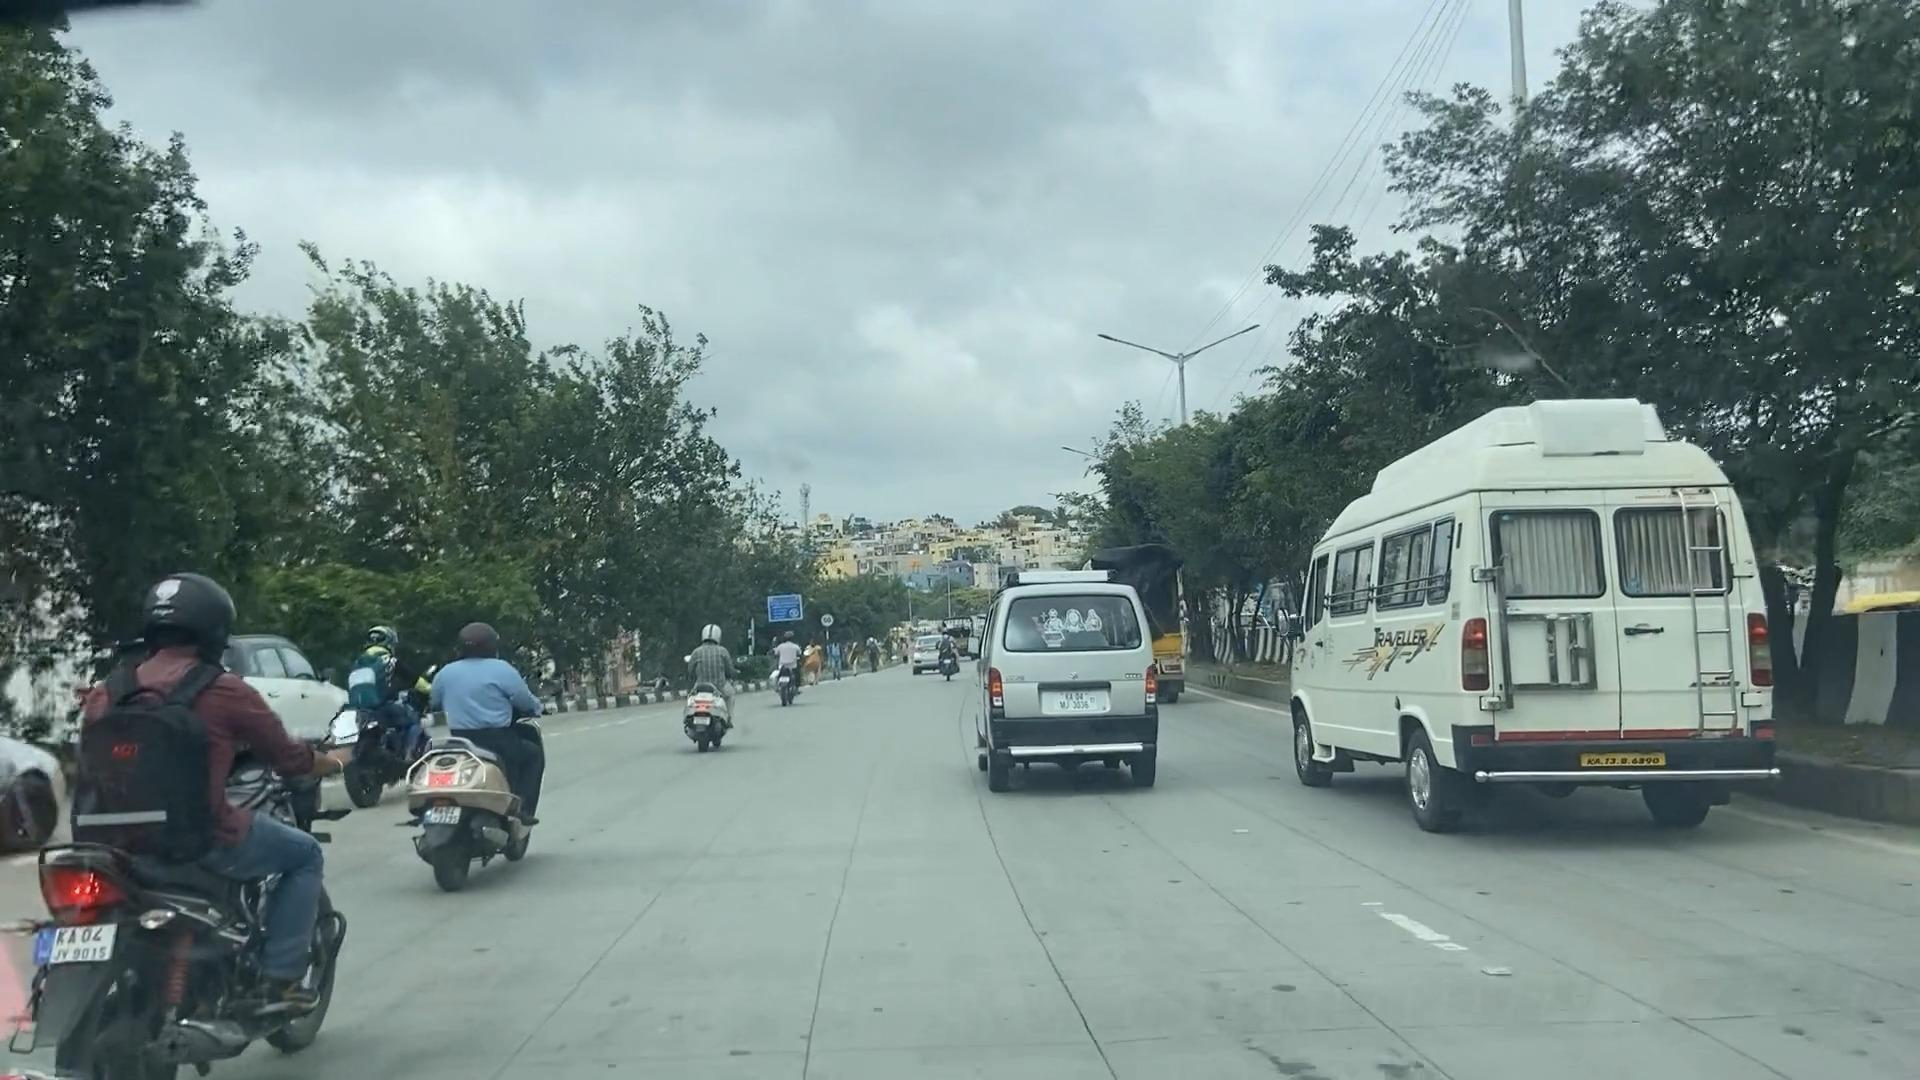HMV: (1294, 426, 1775, 862)
LMV: (73, 574, 351, 1080), (407, 608, 547, 897), (978, 583, 1154, 790), (675, 608, 748, 744)
